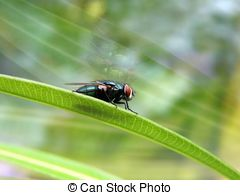green bottles fly: (65, 69, 140, 121)
